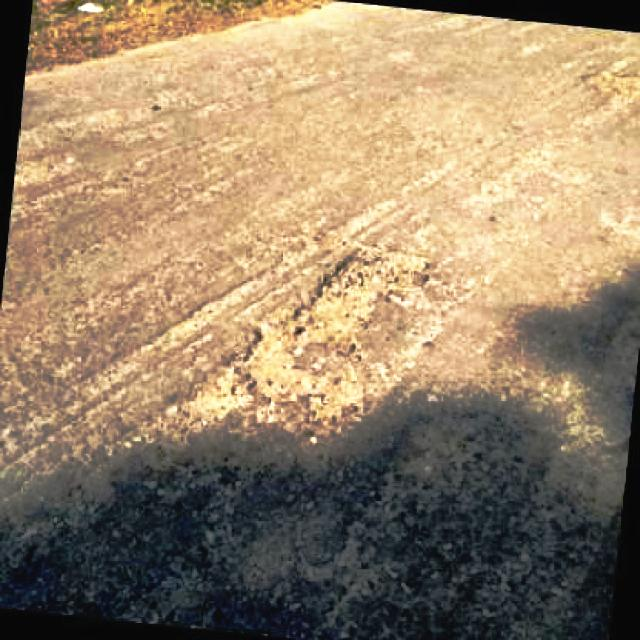pothole: (191, 246, 440, 432)
